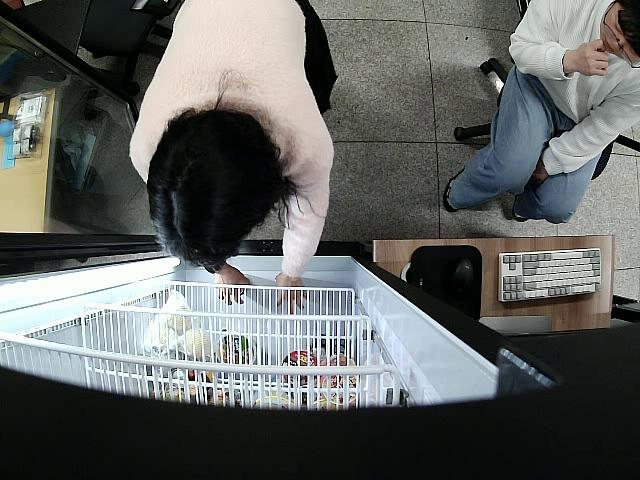00_hand: (273, 268, 309, 315), (213, 265, 251, 307)
